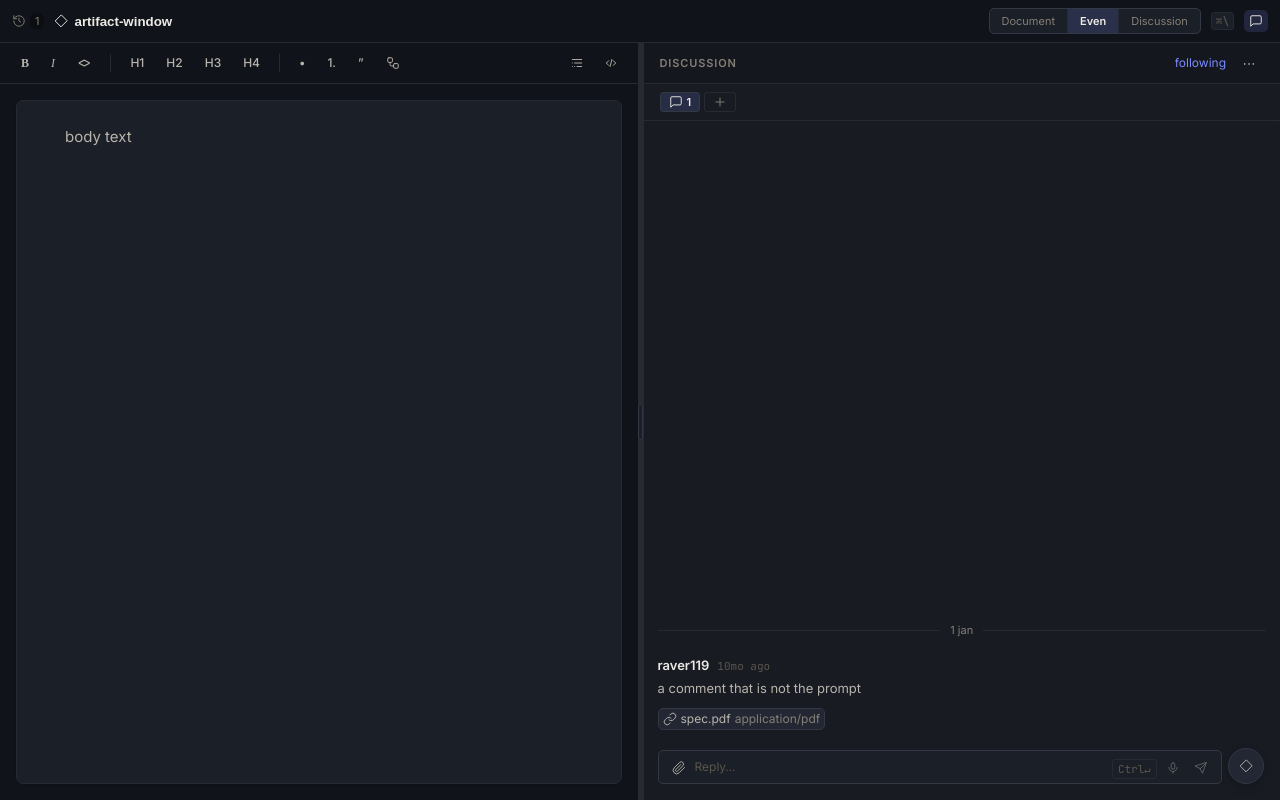
Scenario: New Artifact workspace — Copy as Source › NAW-FR-KEAL: the copy holds the prompt alone, also when the draft carries discussions
expect the text box "body text" is shown: met, box [65,127,132,146]
expect the text "a comment that is not the prompt" is shown: met, box [658,680,861,696]
Click the button named "Draft actions" at (1246, 766), box [1228,748,1264,784]
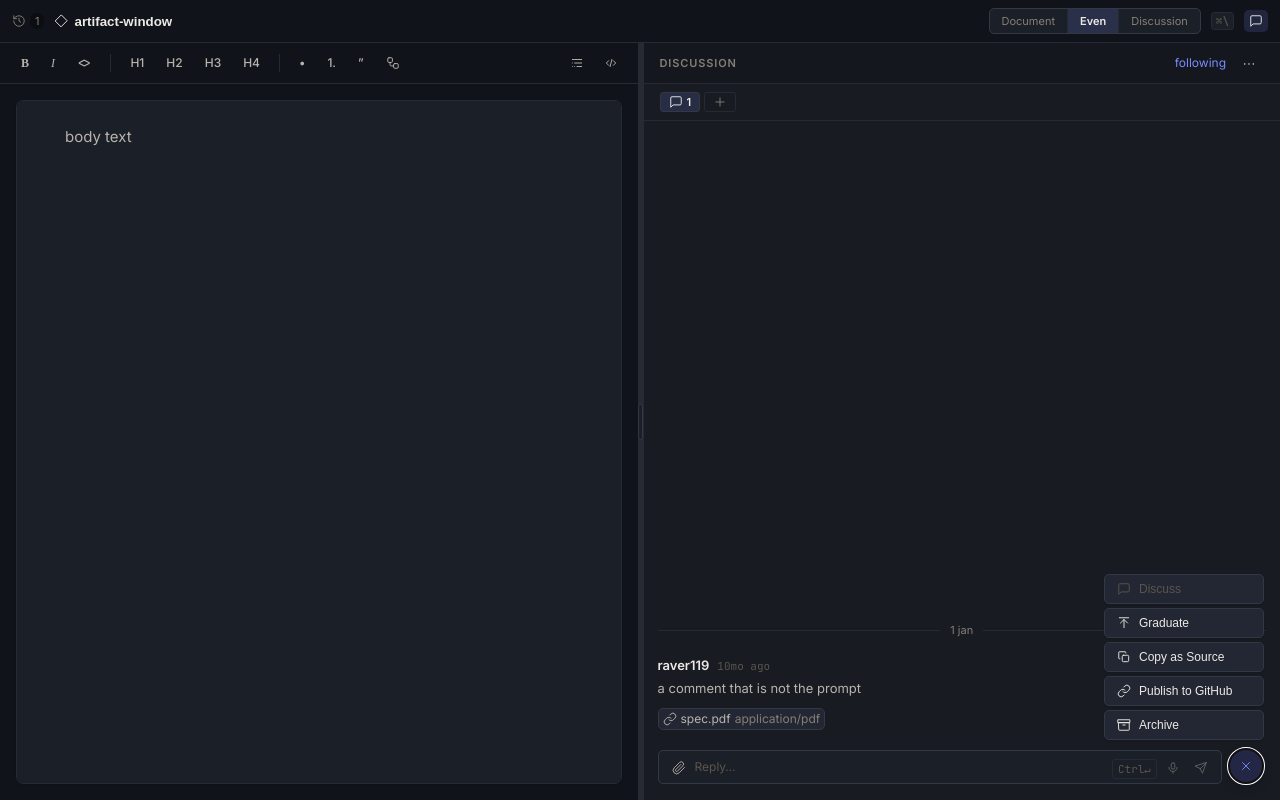
Click the menu item "Copy as Source" at (1184, 657), box [1104,642,1264,672]
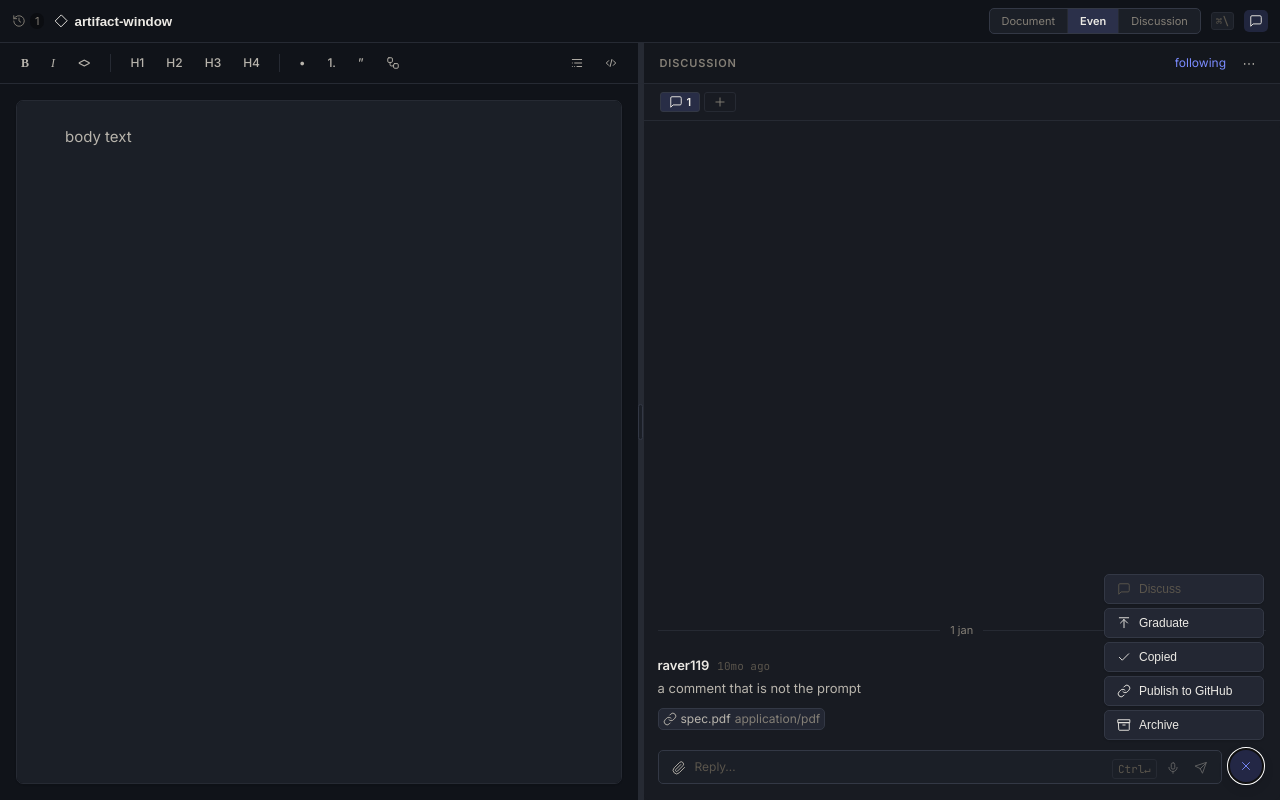
expect the menu item "Copied" is shown: met, box [1104,642,1264,672]
